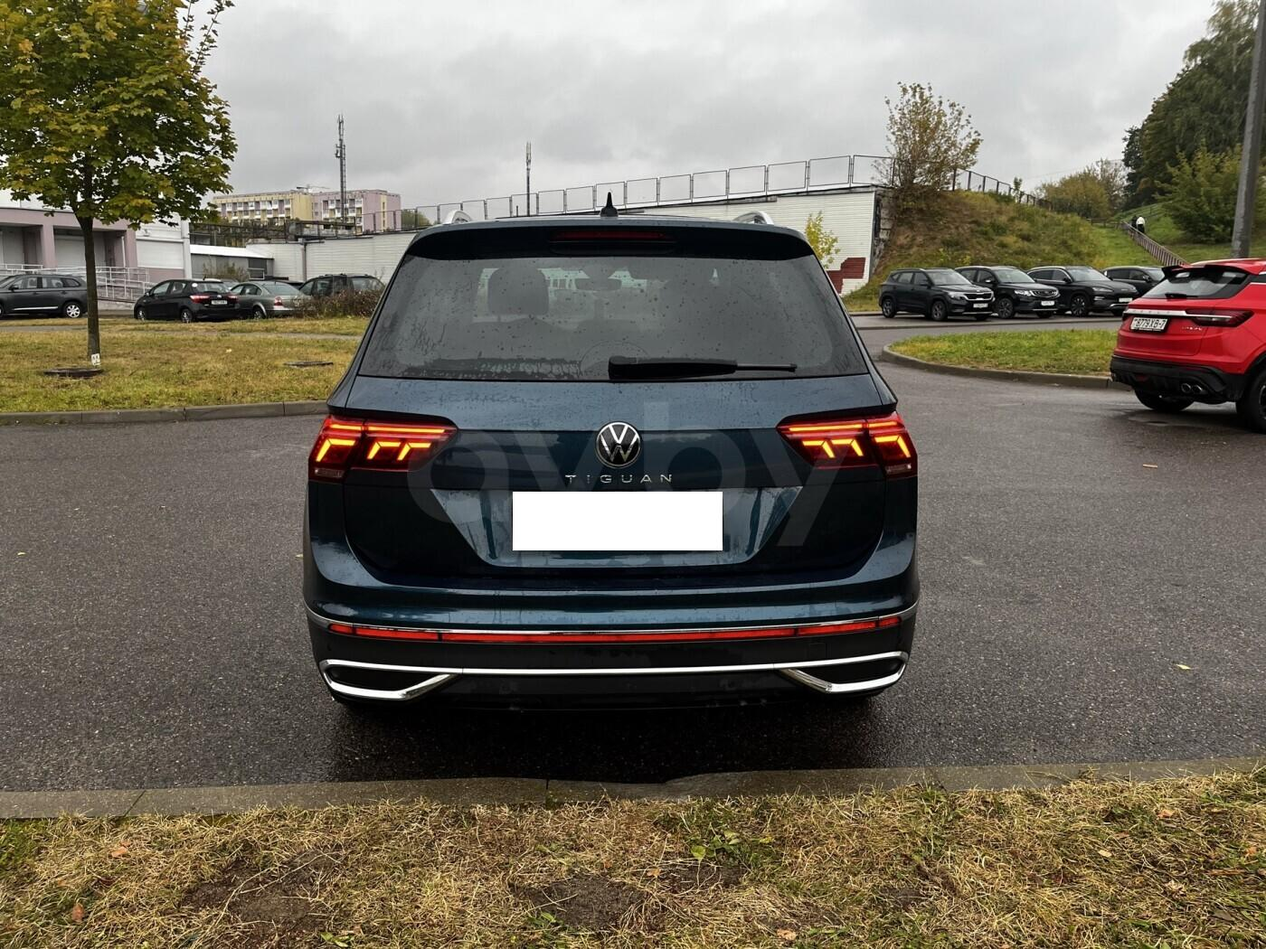Tiguan_2020-2024: (291, 213, 928, 723)
